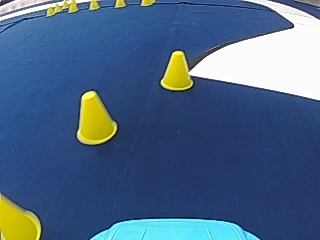cone: (75, 90, 117, 144), (1, 195, 41, 238), (160, 49, 193, 90), (68, 0, 78, 12), (88, 0, 99, 10), (115, 0, 126, 8)
